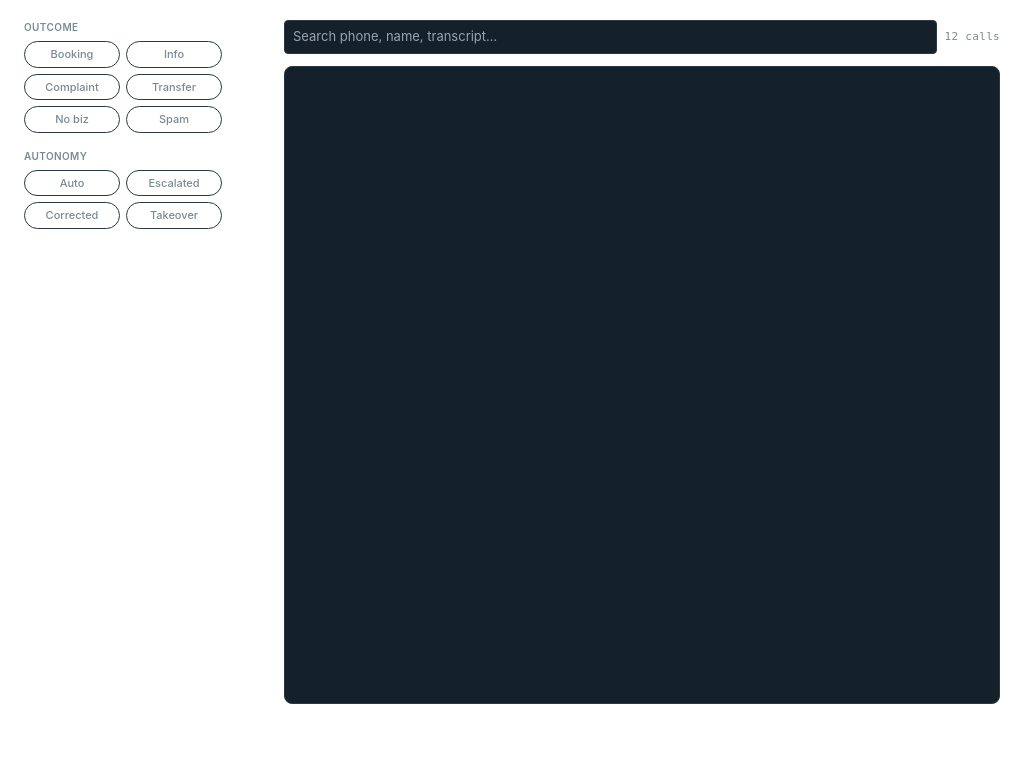
Test: OpsCallsPreview › Clear filters › clear filters button appears when a filter is active
Click the button "Booking": click(72, 54) [24,41,120,68]
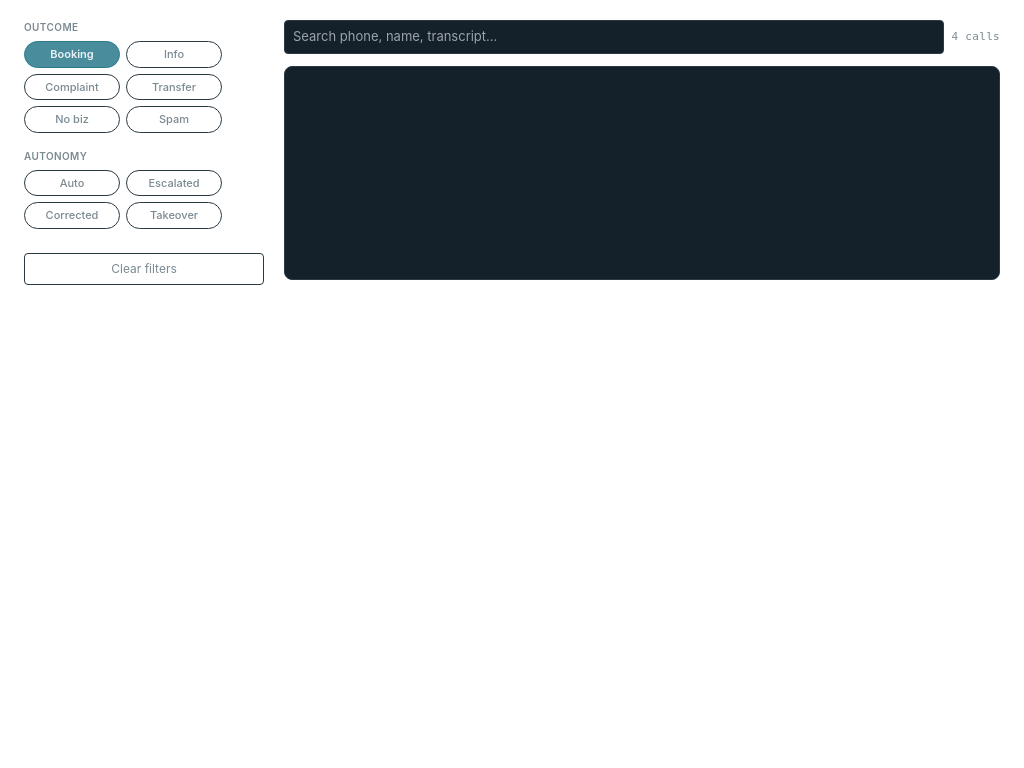
Check: the button "Clear filters" is shown, box [24,252,264,284]
